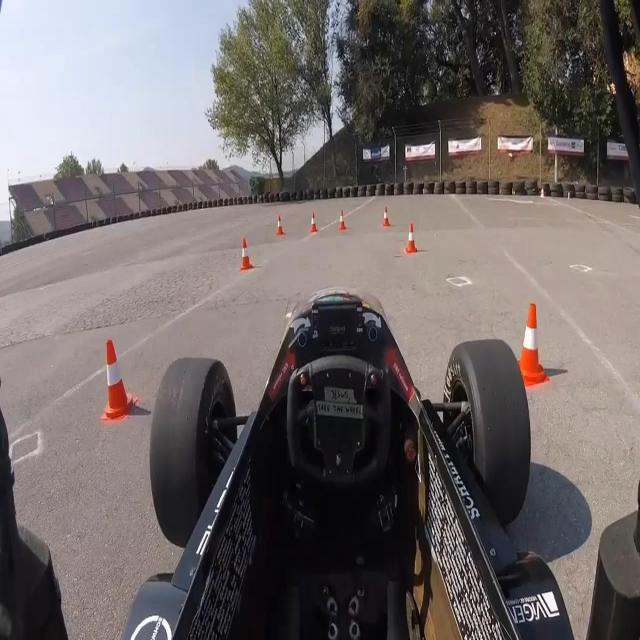orange_cone: (98, 338, 136, 426), (517, 304, 547, 386), (239, 238, 252, 272), (405, 222, 418, 254), (382, 205, 391, 227), (309, 211, 317, 234), (276, 215, 284, 237), (339, 211, 345, 231)
